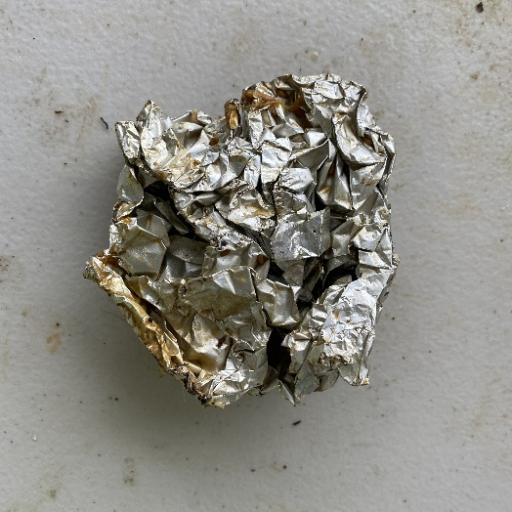Metal: (82, 70, 401, 410)
